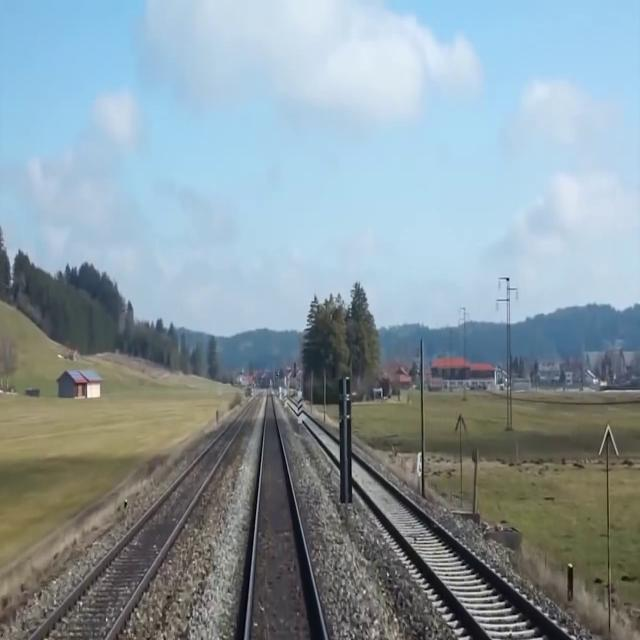rail-track: (36, 411, 246, 639), (352, 457, 564, 639), (249, 397, 322, 639), (303, 415, 340, 459)
